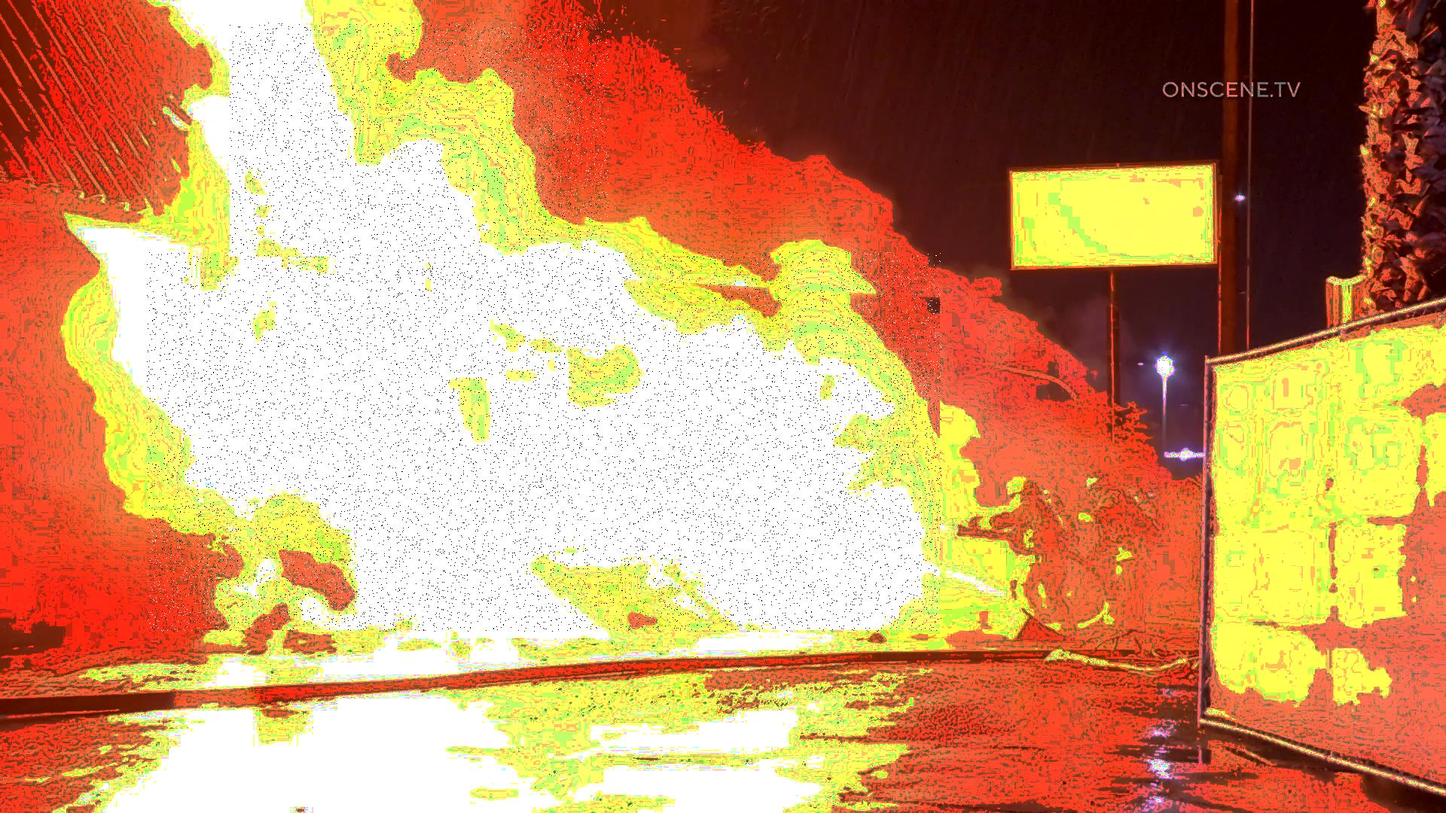fire: (147, 253, 942, 632), (230, 23, 609, 257)
